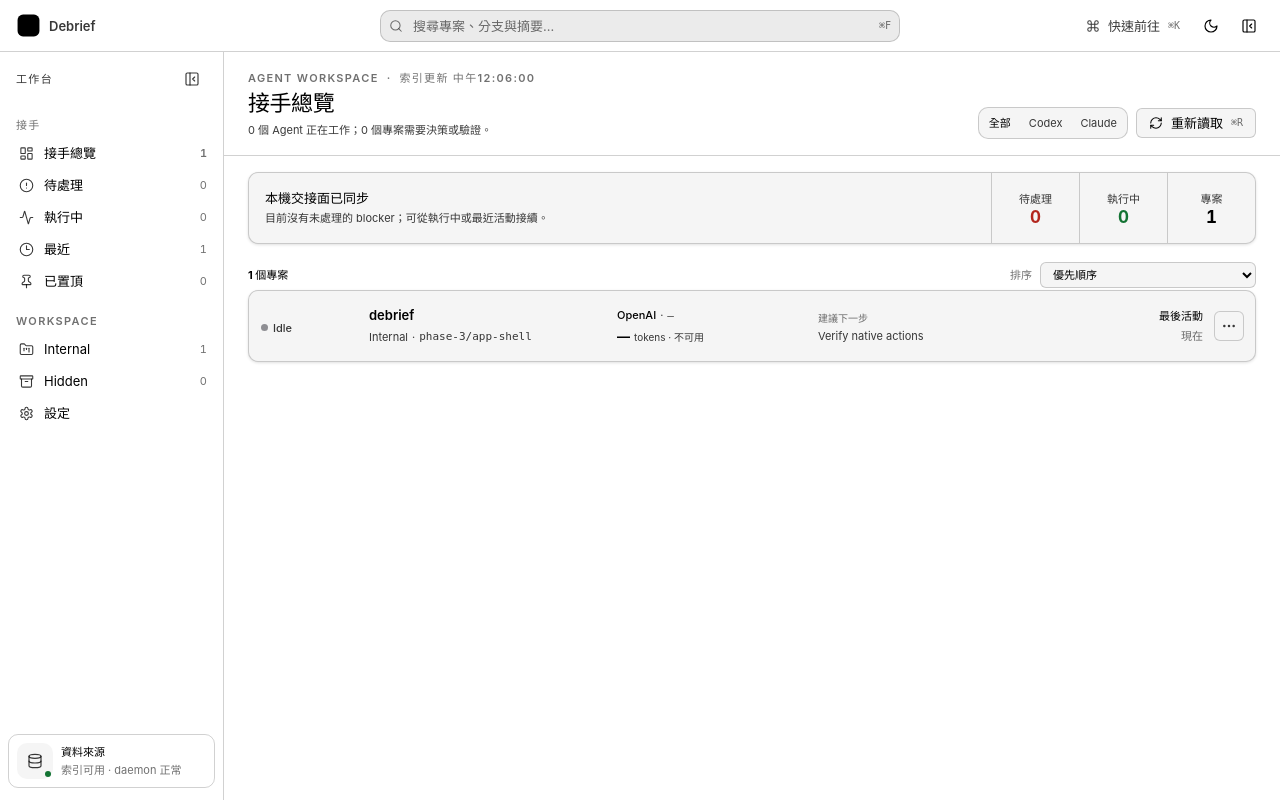
App › renders the project workspace and opens the session detail panel
Check: the text "debrief" is shown, box [369,306,414,324]
Click the button with aria-label "debrief, Idle".
click(392, 315)  # box [249,291,1203,361]
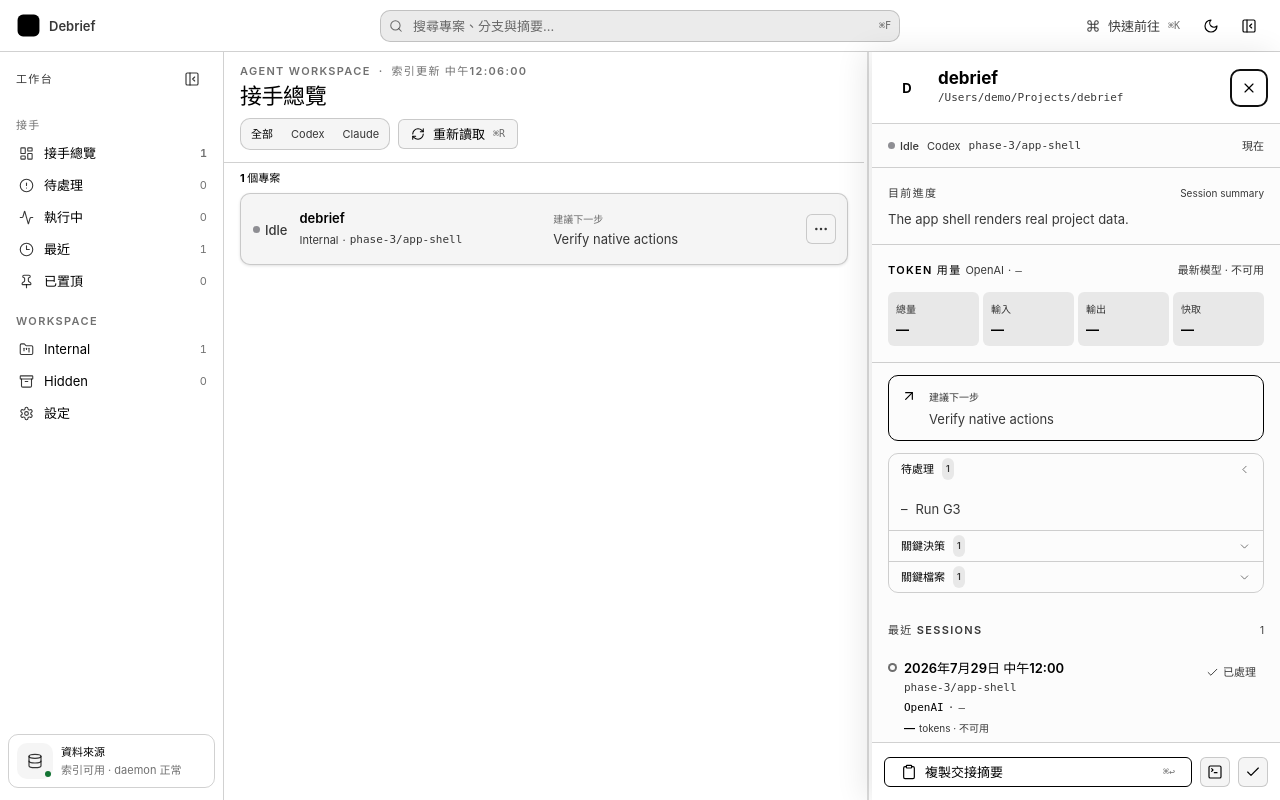
Check: the dialog named "debrief session 詳情" is shown, box [872,52,1279,799]
Check: the text "phase-3/app-shell" is shown 3 times, box [350,231,462,249]; [969,136,1081,154]; [904,681,1017,694]
